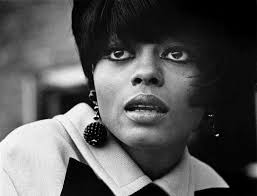black_female: (68, 1, 243, 173)
